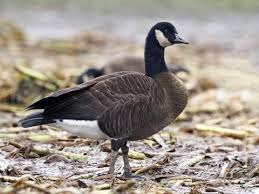goose: (15, 17, 198, 183)
